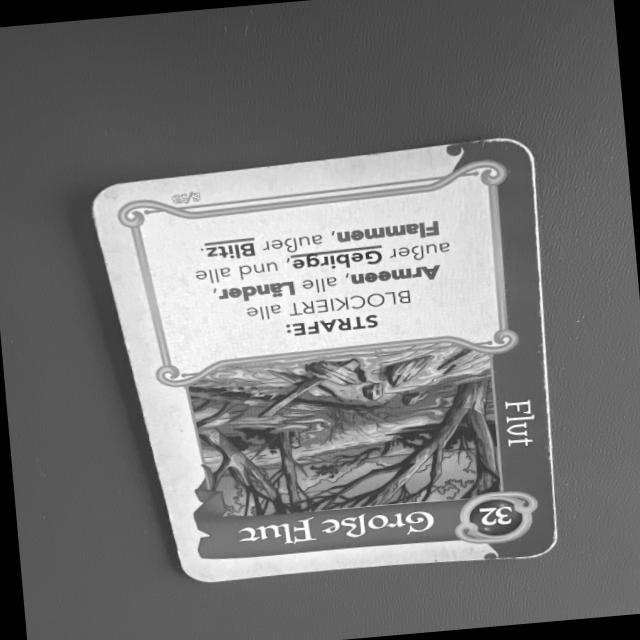Great Flood: (86, 136, 558, 584)
